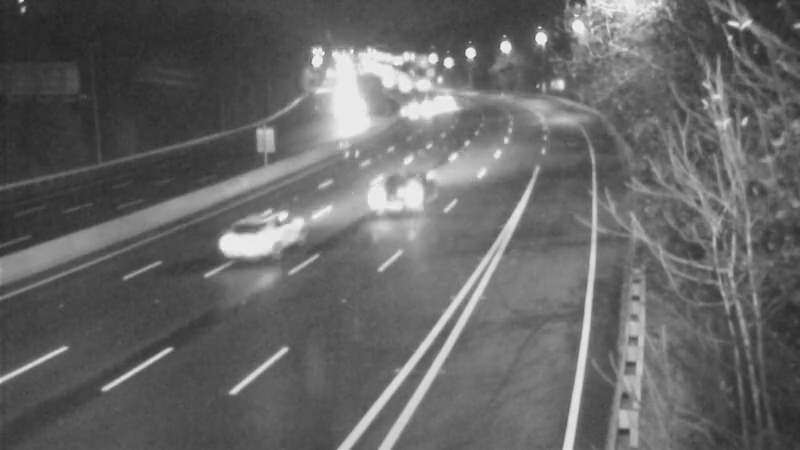vehicle: (388, 141, 468, 221), (209, 200, 289, 280), (396, 58, 446, 108), (417, 84, 467, 134), (381, 87, 431, 137), (326, 88, 376, 138)
